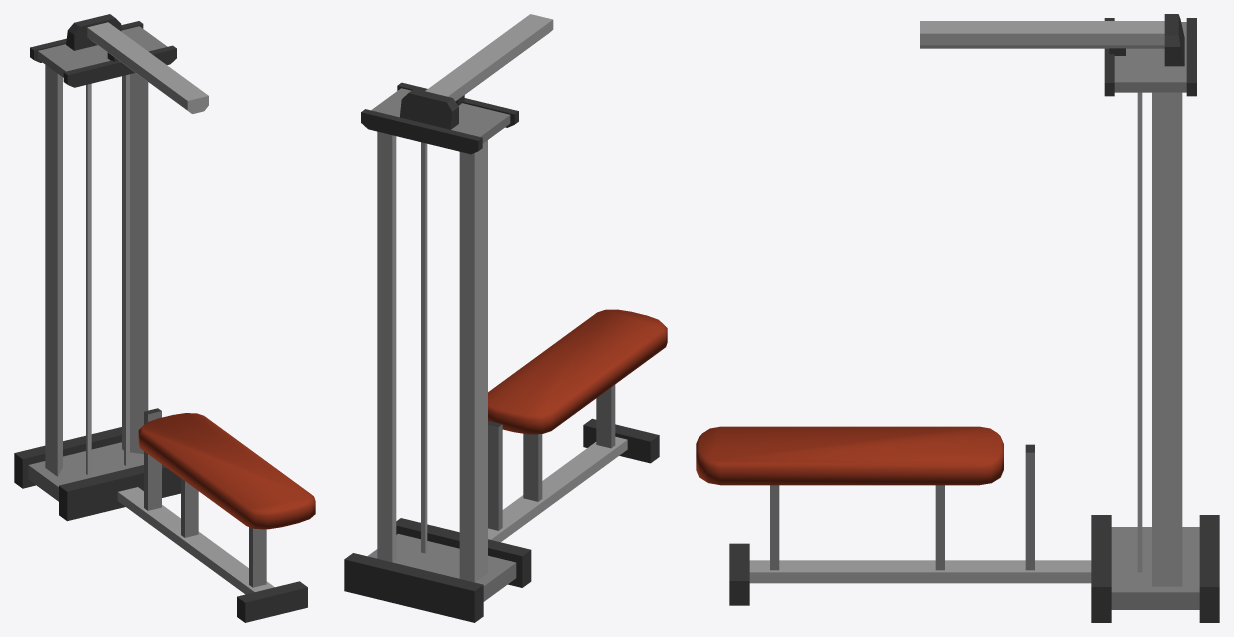
The model's file is e-machine-1.glb.
3 renders of one model, left to right at view 1: azimuth 30°, elevation 25°; view 2: azimuth 150°, elevation 25°; view 3: azimuth 270°, elevation 25°, orthographic. The views are drawn at different scales.
Parts seen in each view (by area): view 1: E_Machine_1; view 2: E_Machine_1; view 3: E_Machine_1.
Boxes of the visible parts, x1=… form: E_Machine_1: x1=14, y1=14, x2=315, y2=622; E_Machine_1: x1=344, y1=14, x2=667, y2=622; E_Machine_1: x1=696, y1=14, x2=1219, y2=622.
Bounding box in the file's own units: 59.4 × 216 × 182.
1 material, 1 textured.
